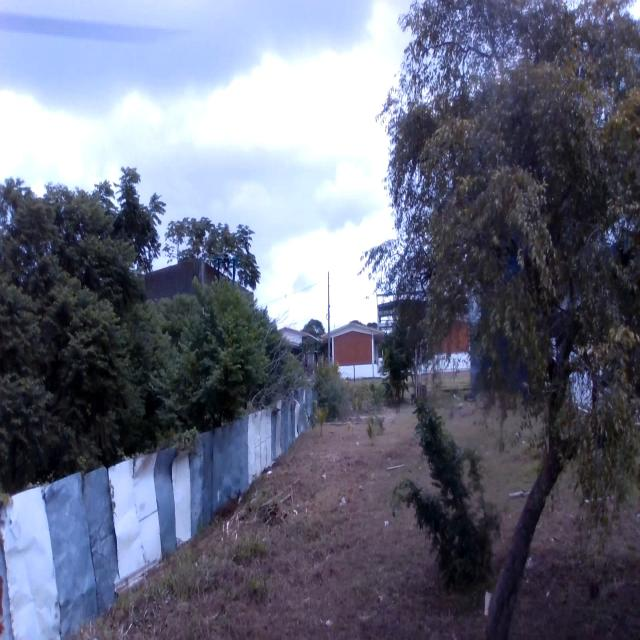-uav-: (205, 225, 248, 298)
